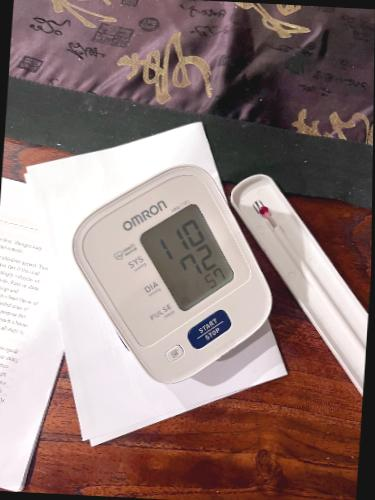bpm: (133, 200, 240, 315)
